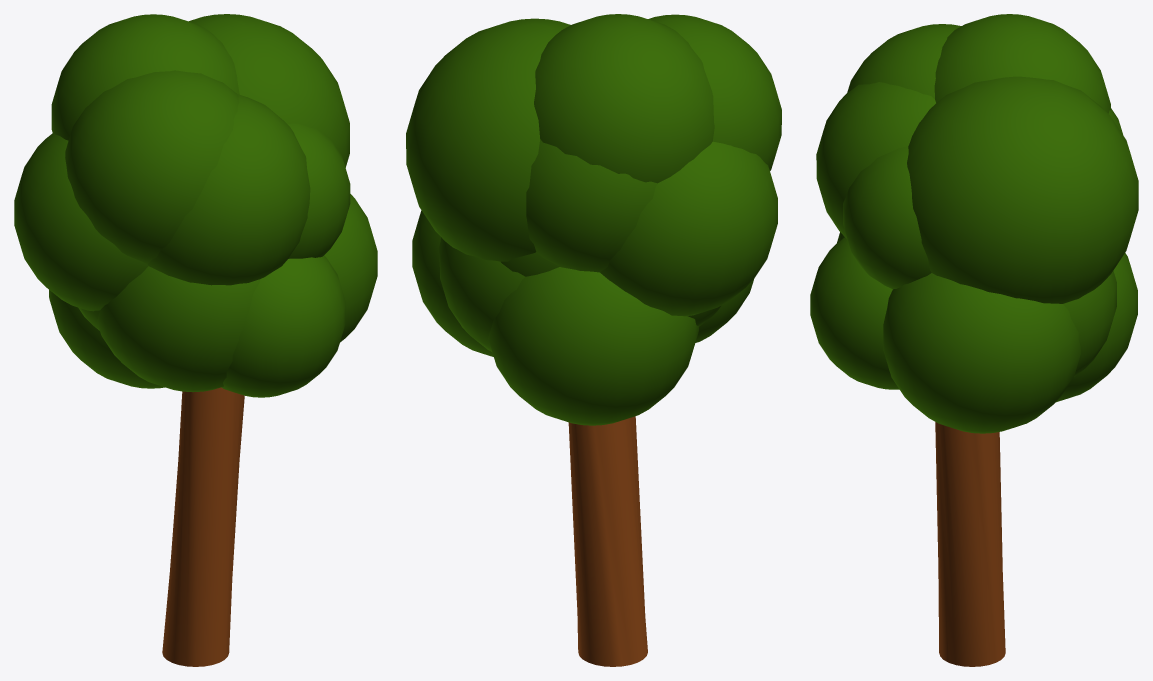
Rendered from agaç.fbx.
3 views of the same model, side by side, from view 1: azimuth 30°, elevation 25°; view 2: azimuth 150°, elevation 25°; view 3: azimuth 270°, elevation 25° (orthographic). The views are drawn at different scales.
Visible parts, largest first — view 1: branch_1_6, branch_1_4, tree1, branch_1_13, branch_1_8, branch_1_1, branch_1_5, branch_1_2, branch_1_7, branch_1_12, branch_1_14; view 2: branch_1_2, branch_1_5, branch_1_14, branch_1_1, tree1, branch_1_3, branch_1_6, branch_1_10, branch_1_12, branch_1_13, branch_1_9; view 3: branch_1_2, branch_1_12, tree1, branch_1_5, branch_1_4, branch_1_7, branch_1_8, branch_1_6, branch_1_14, branch_1_10.
Boxes of the visible parts, x1,y1,x2,y2 form: branch_1_6: (65, 70, 239, 264); branch_1_4: (148, 94, 310, 285); tree1: (162, 387, 244, 666); branch_1_13: (97, 266, 259, 392); branch_1_8: (221, 255, 345, 397); branch_1_1: (14, 133, 148, 311); branch_1_5: (51, 14, 239, 140); branch_1_2: (189, 14, 349, 167); branch_1_7: (287, 123, 350, 258); branch_1_12: (324, 194, 377, 342); branch_1_14: (49, 290, 164, 388); branch_1_2: (406, 18, 570, 261); branch_1_5: (534, 14, 714, 183); branch_1_14: (488, 267, 698, 425); branch_1_1: (600, 141, 777, 316); tree1: (568, 416, 647, 666); branch_1_3: (526, 139, 657, 272); branch_1_6: (648, 14, 781, 170); branch_1_10: (438, 237, 525, 351); branch_1_12: (412, 210, 493, 356); branch_1_13: (695, 279, 753, 342); branch_1_9: (501, 252, 559, 276); branch_1_2: (907, 76, 1138, 303); branch_1_12: (883, 273, 1080, 433); tree1: (935, 422, 1005, 666); branch_1_5: (934, 14, 1110, 113); branch_1_4: (816, 82, 935, 239); branch_1_7: (843, 146, 931, 289); branch_1_8: (810, 237, 899, 389); branch_1_6: (847, 24, 961, 98); branch_1_14: (1056, 253, 1137, 402); branch_1_10: (1063, 271, 1116, 376).
Size of the model in its own units: 163 by 292 by 141.
